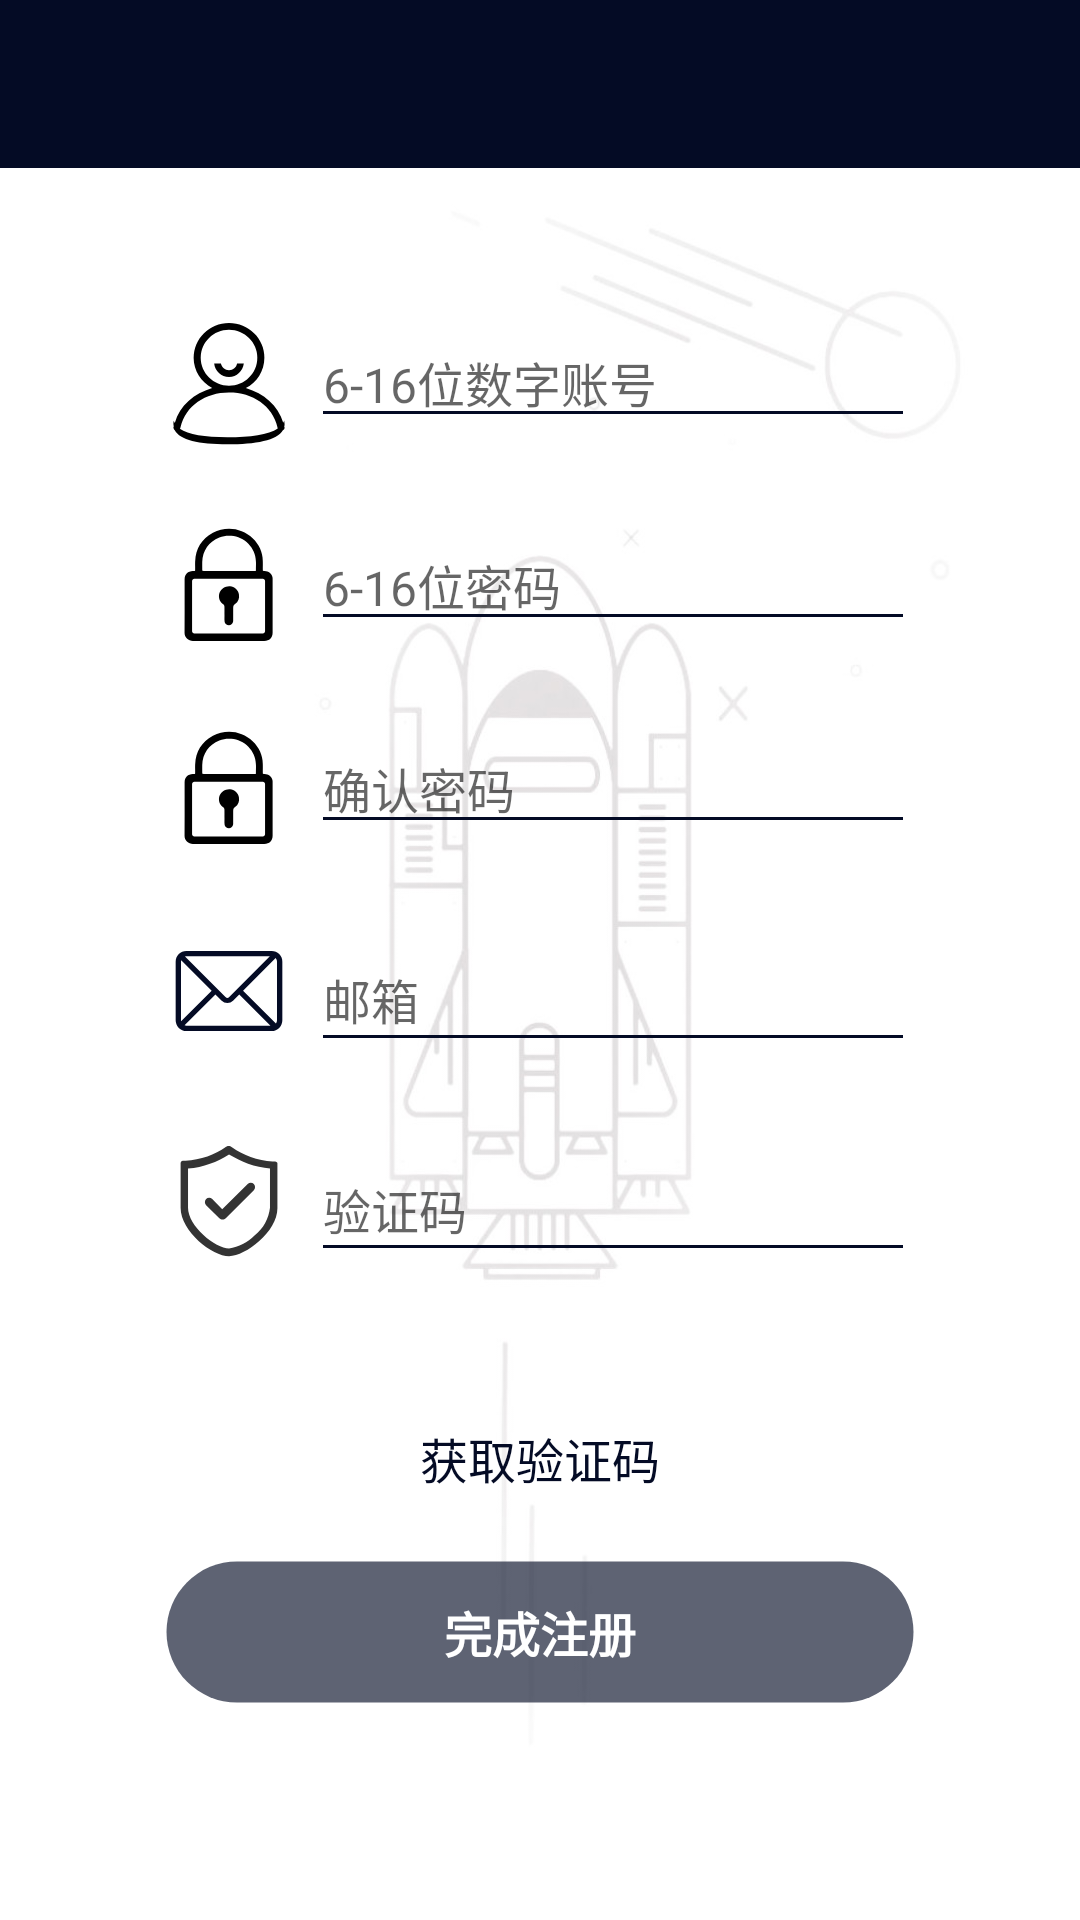

Locate icon controls on the screen. Image size 1080 × 1920, boxes as (x1, y1, x2, y2).
code: (180, 1146, 278, 1257)
email: (175, 951, 283, 1031)
password: (184, 528, 273, 641), (184, 731, 273, 844)
user: (173, 323, 285, 445)
